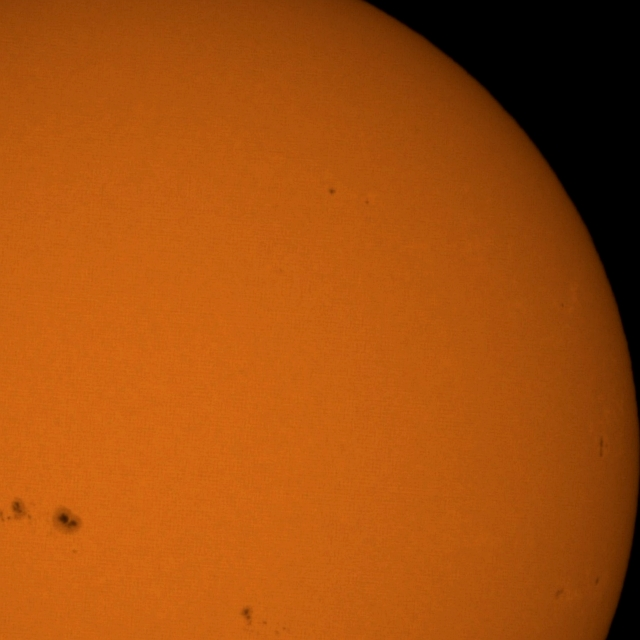sunspot: (0, 498, 34, 525), (240, 604, 269, 631), (55, 509, 82, 536), (240, 605, 255, 625), (553, 586, 566, 601), (328, 187, 338, 196), (594, 576, 601, 587), (364, 198, 371, 206), (261, 620, 268, 626)
